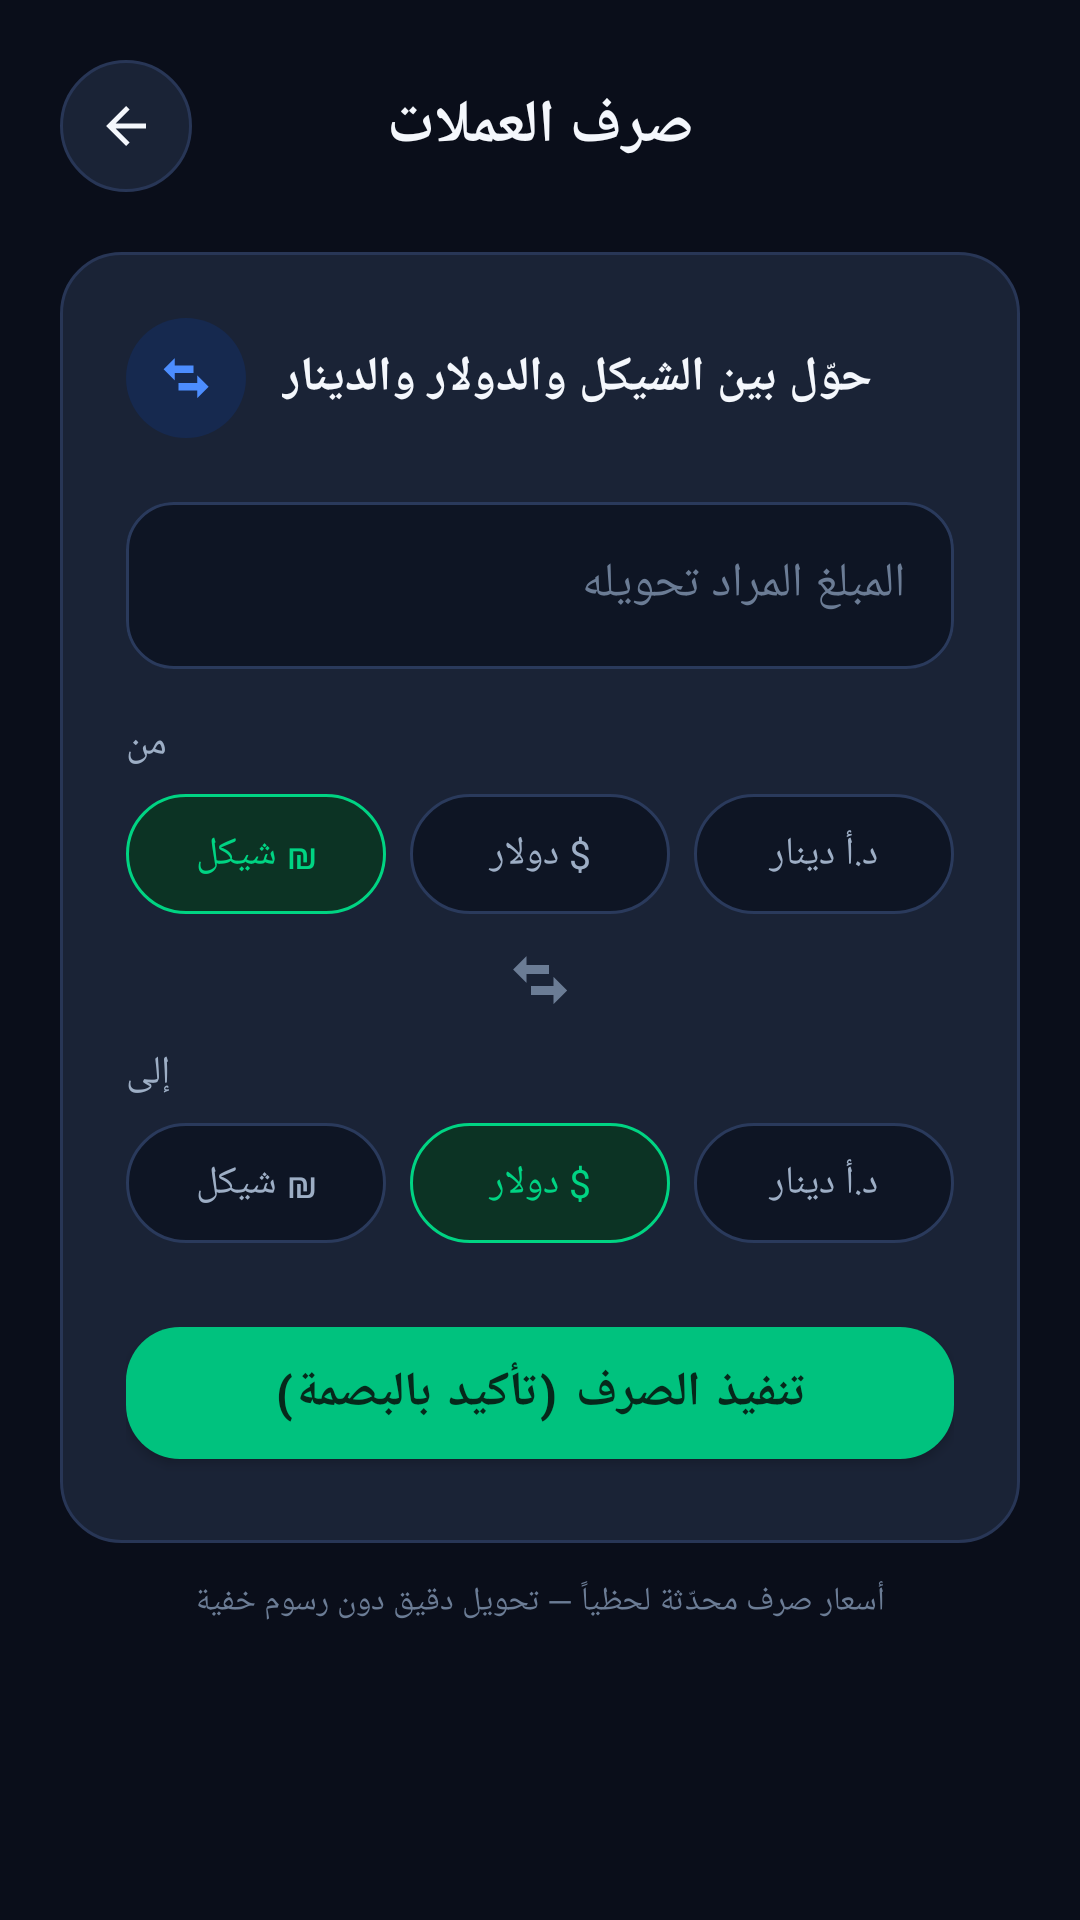

Screen size 1080px×1920px. Icon name, then its center in pixels as (x,y):
convert: (186,378), (540,980)
رجوع: (126,126)
